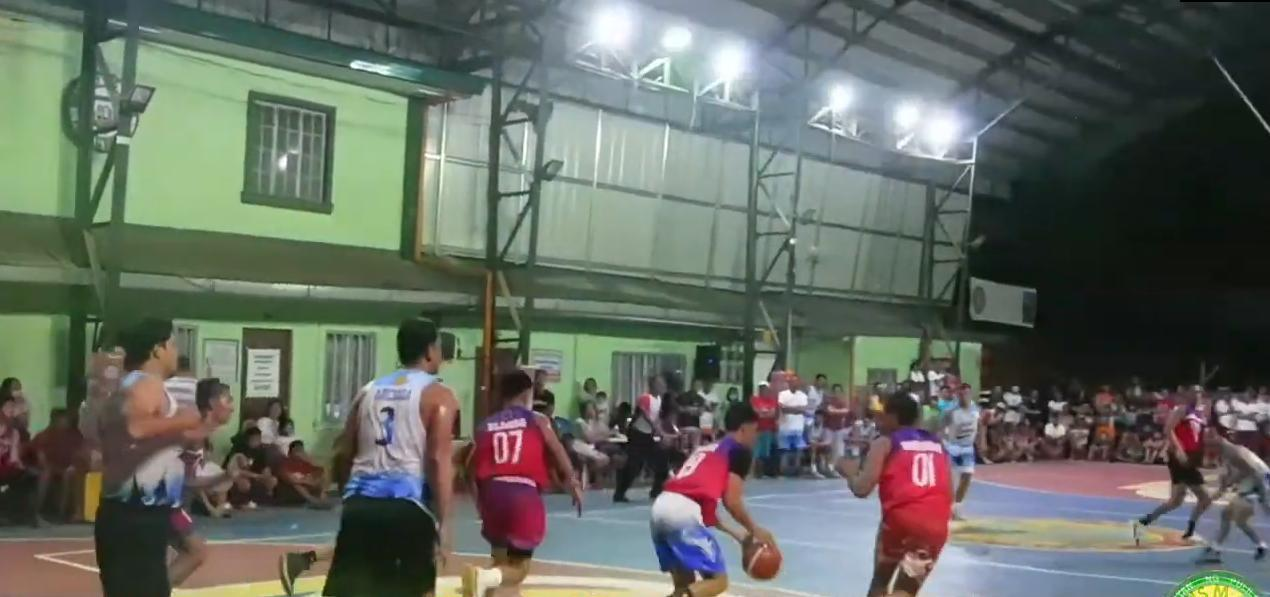ball: (730, 522, 788, 585)
human: (283, 307, 470, 597), (69, 303, 246, 597), (636, 383, 799, 597), (460, 340, 595, 597), (827, 372, 979, 597), (1125, 370, 1208, 552), (1185, 413, 1270, 590)
